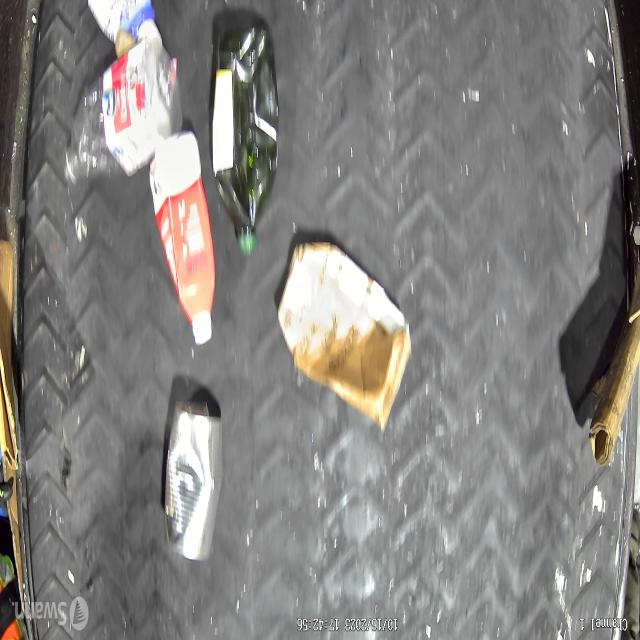can: (161, 396, 225, 566)
non_white_jug: (146, 133, 215, 342)
plastic_bottle: (60, 54, 179, 192), (211, 27, 276, 253)
